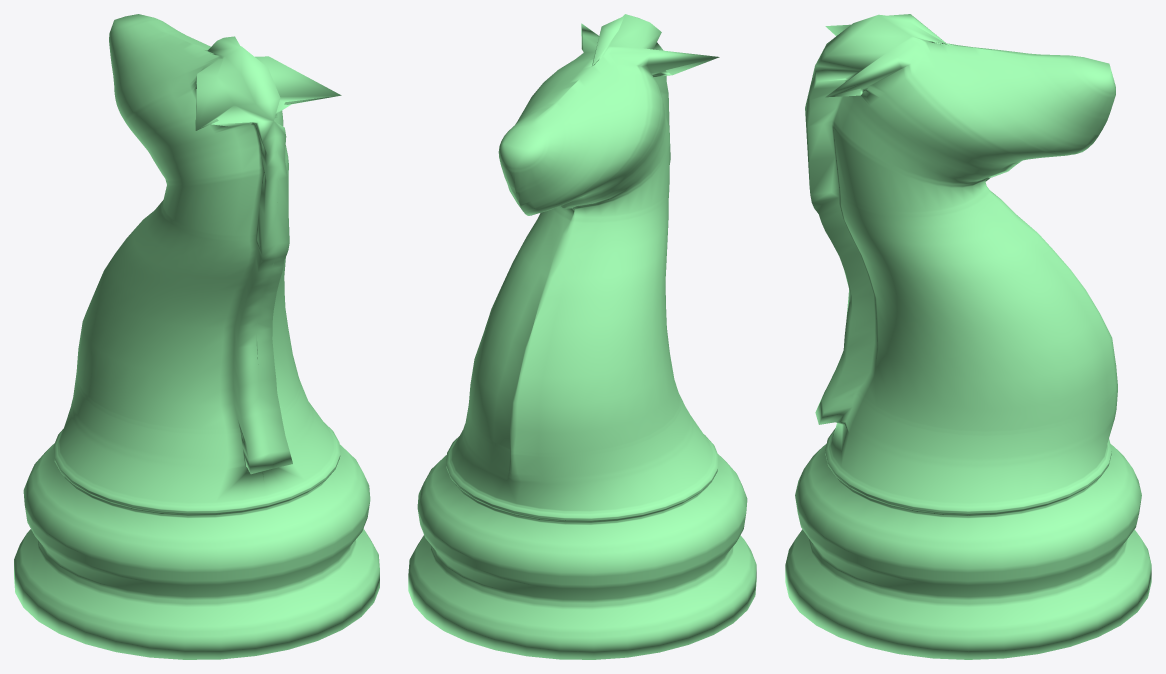
Rendered from kinght.fbx.
3 renders of one model, left to right at view 1: azimuth 30°, elevation 25°; view 2: azimuth 150°, elevation 25°; view 3: azimuth 270°, elevation 25°, orthographic. The views are drawn at different scales.
Parts seen in each view (by area): view 1: Light Knight 1; view 2: Light Knight 1; view 3: Light Knight 1.
Part boxes in pixels (bbox=[...]): Light Knight 1: bbox=[14, 14, 379, 659]; Light Knight 1: bbox=[408, 14, 756, 659]; Light Knight 1: bbox=[785, 14, 1151, 659].
Size of the model in its own units: 88.41 by 151 by 88.41.
